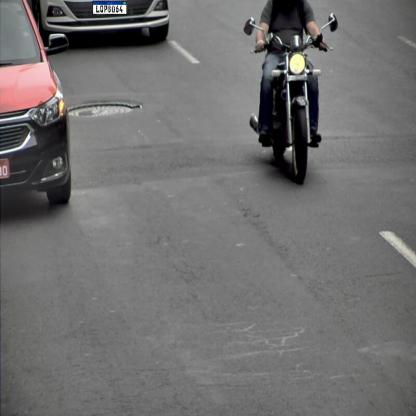PlacaM: (92, 0, 127, 14)
